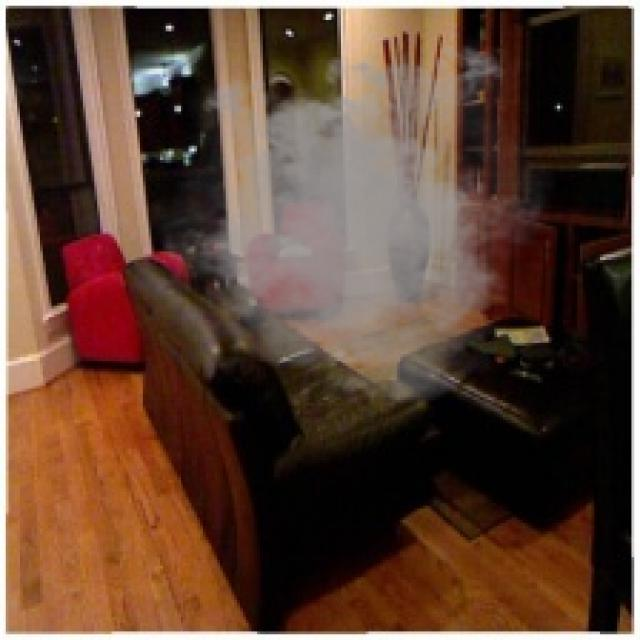smoke: (140, 34, 566, 409)
